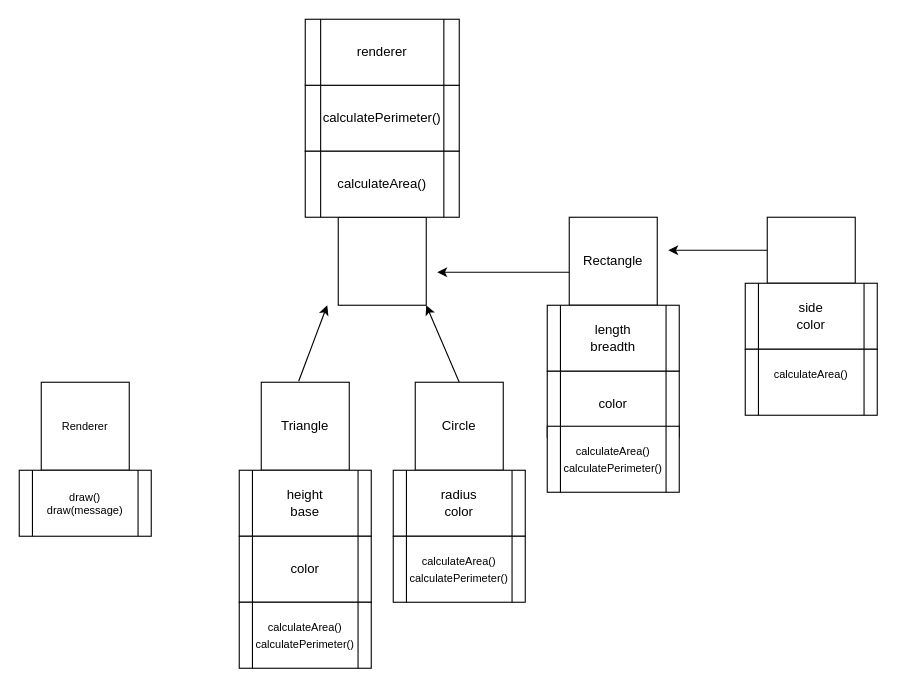
The diagram is 897 pixels wide and 688 high, and some of its shapes have lost their labels. The shapes that lost their labels are listed below. From the top down, each one's centre as x and y in pixels, then its label:
At point (381, 260): "Ishape".
At point (810, 249): "Square".
